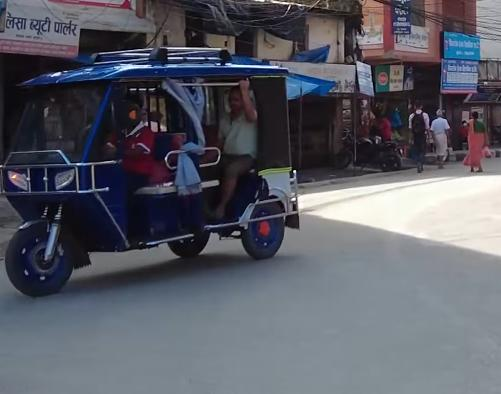e-rickshaw: (0, 39, 314, 301)
